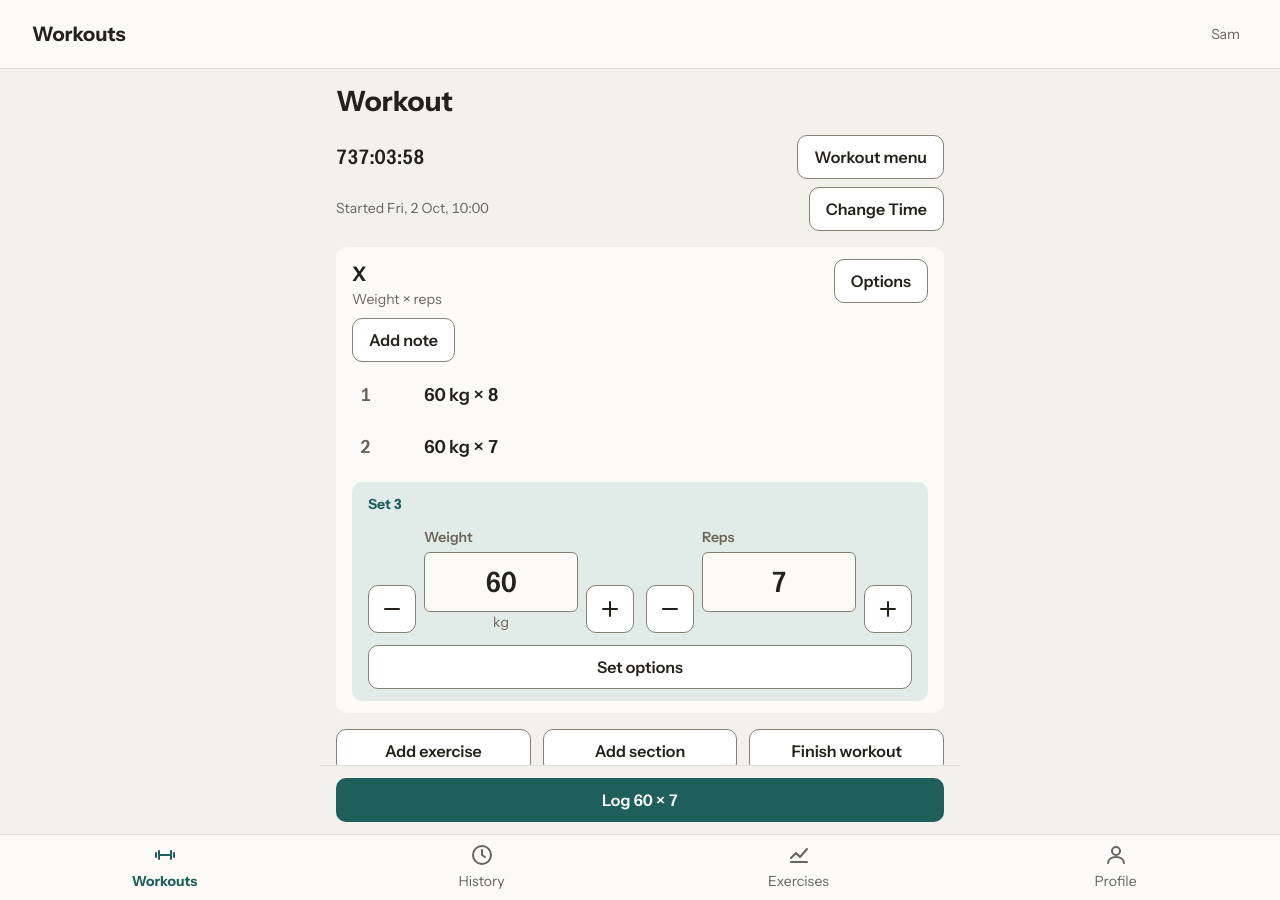
Scenario: AC25 — edit and delete a logged set › a unit-only edit sends only { weightUnit }
The image size is (1280, 900).
expect the heading "Workout" is shown: met, box [336, 84, 453, 118]
Click the button "1 60 kg × 8" at (461,395), box [352, 374, 928, 418]
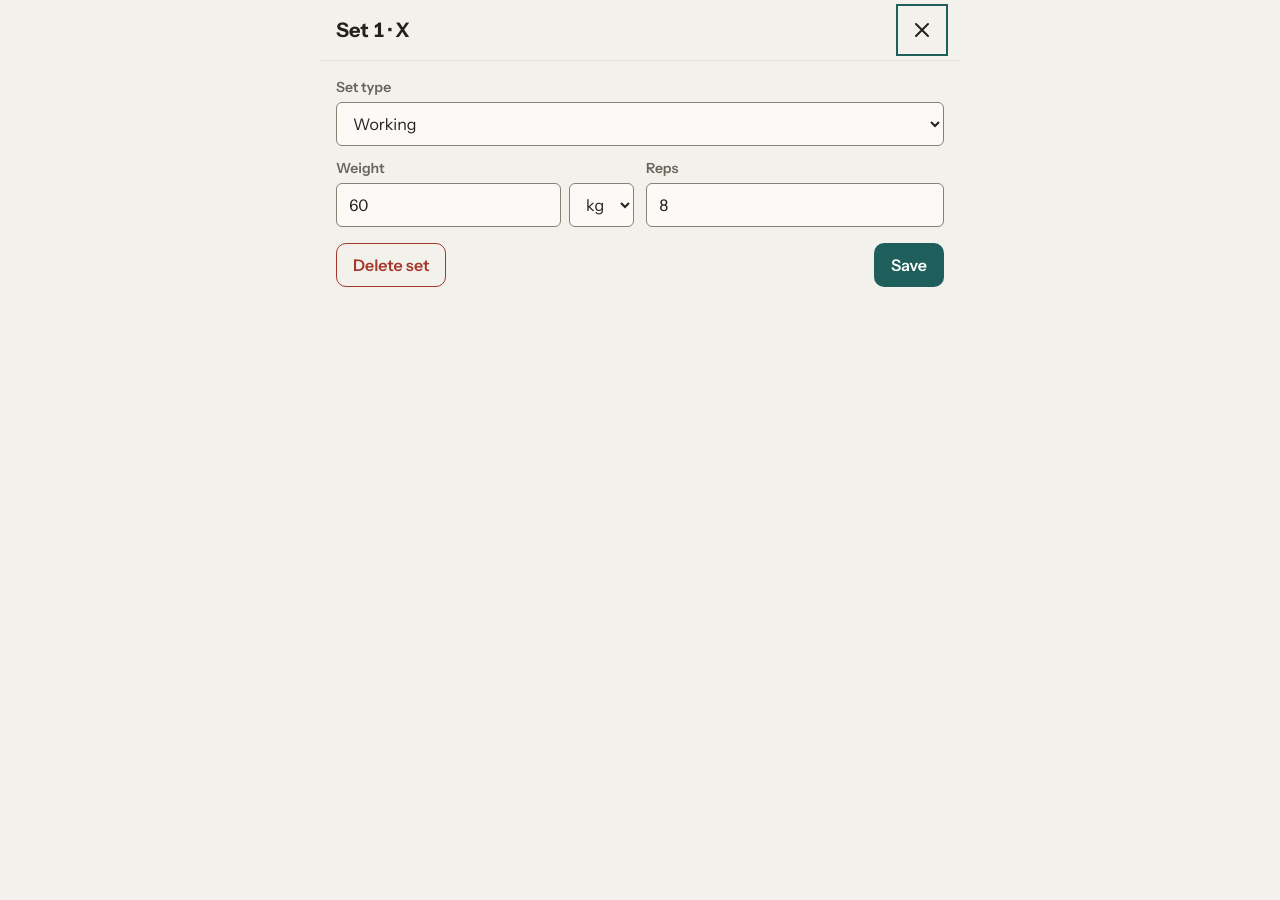
Select "lb" in the dropdown named "Weight unit" at (602,205), box [569, 183, 634, 227]
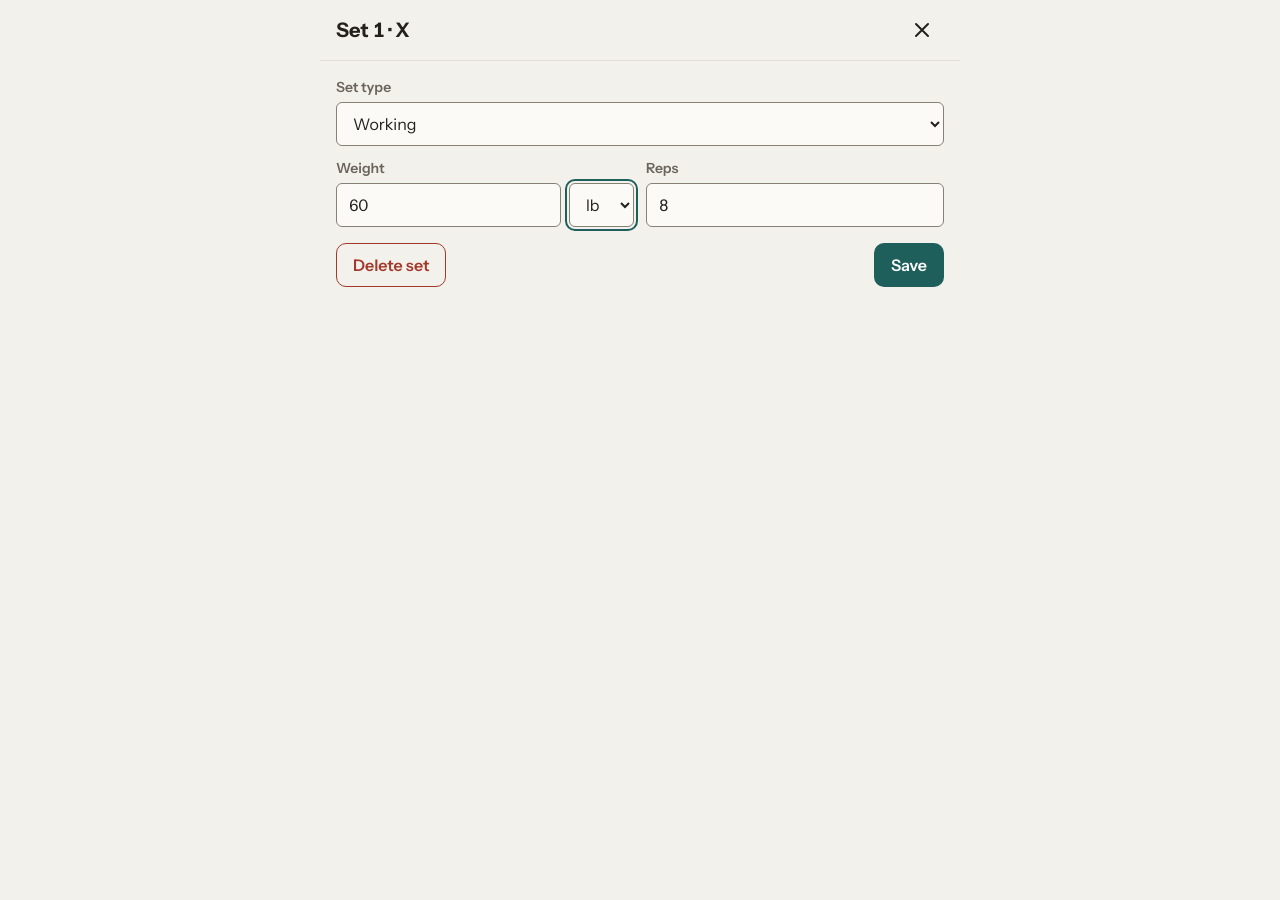
Click the button "Save" at (909,265), box [874, 243, 944, 287]
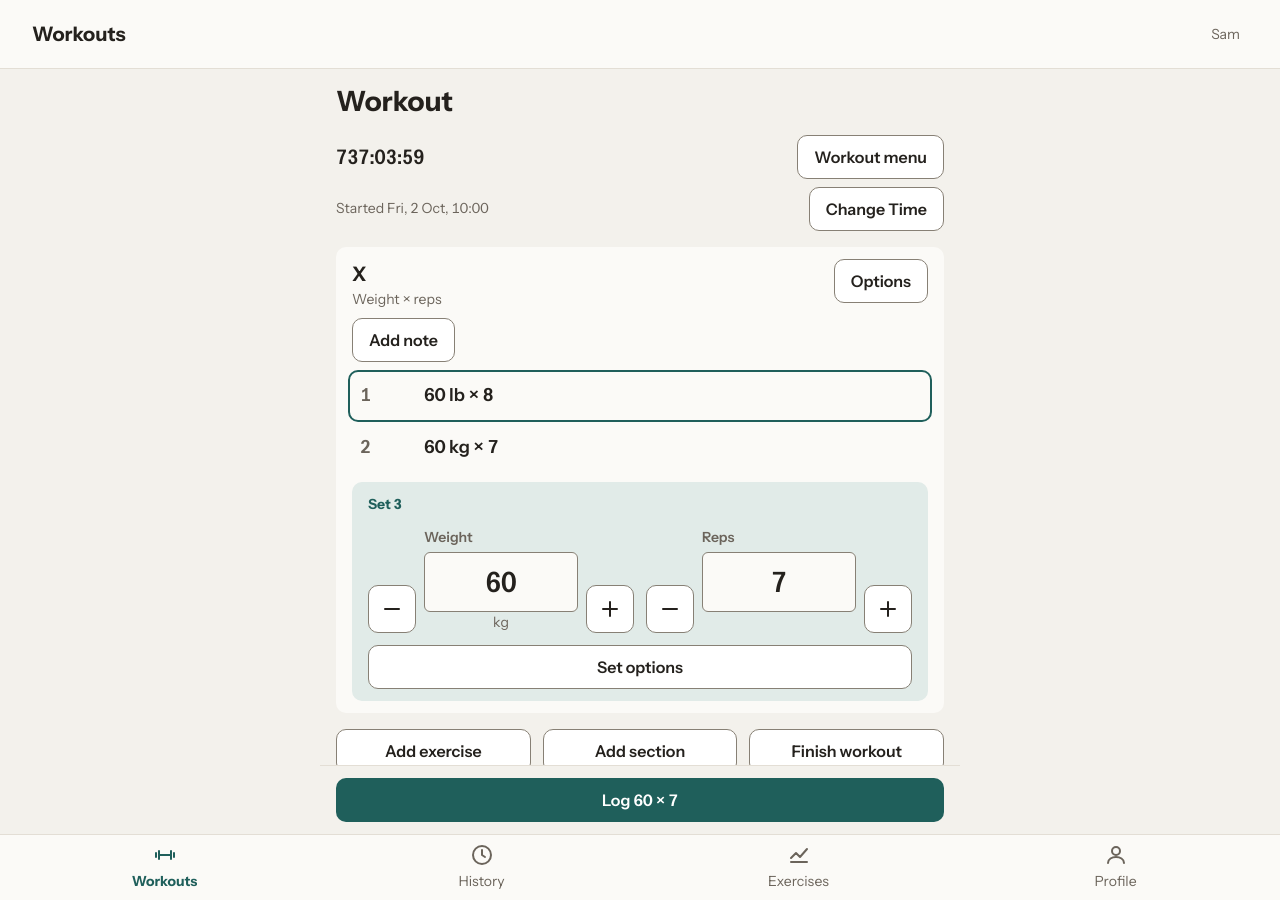
expect the text "60 lb × 8" is shown: met, box [424, 382, 494, 409]
